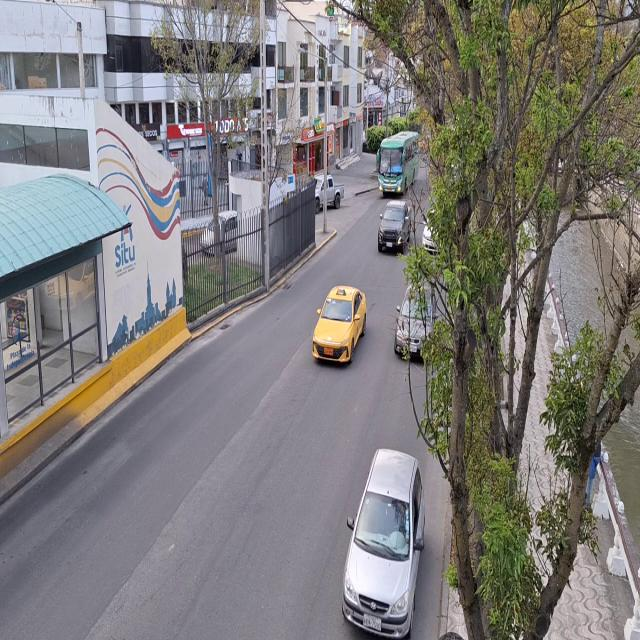BUS: (379, 132, 420, 194)
CMT: (376, 198, 412, 250)
SED: (352, 454, 422, 633), (314, 284, 366, 362)
